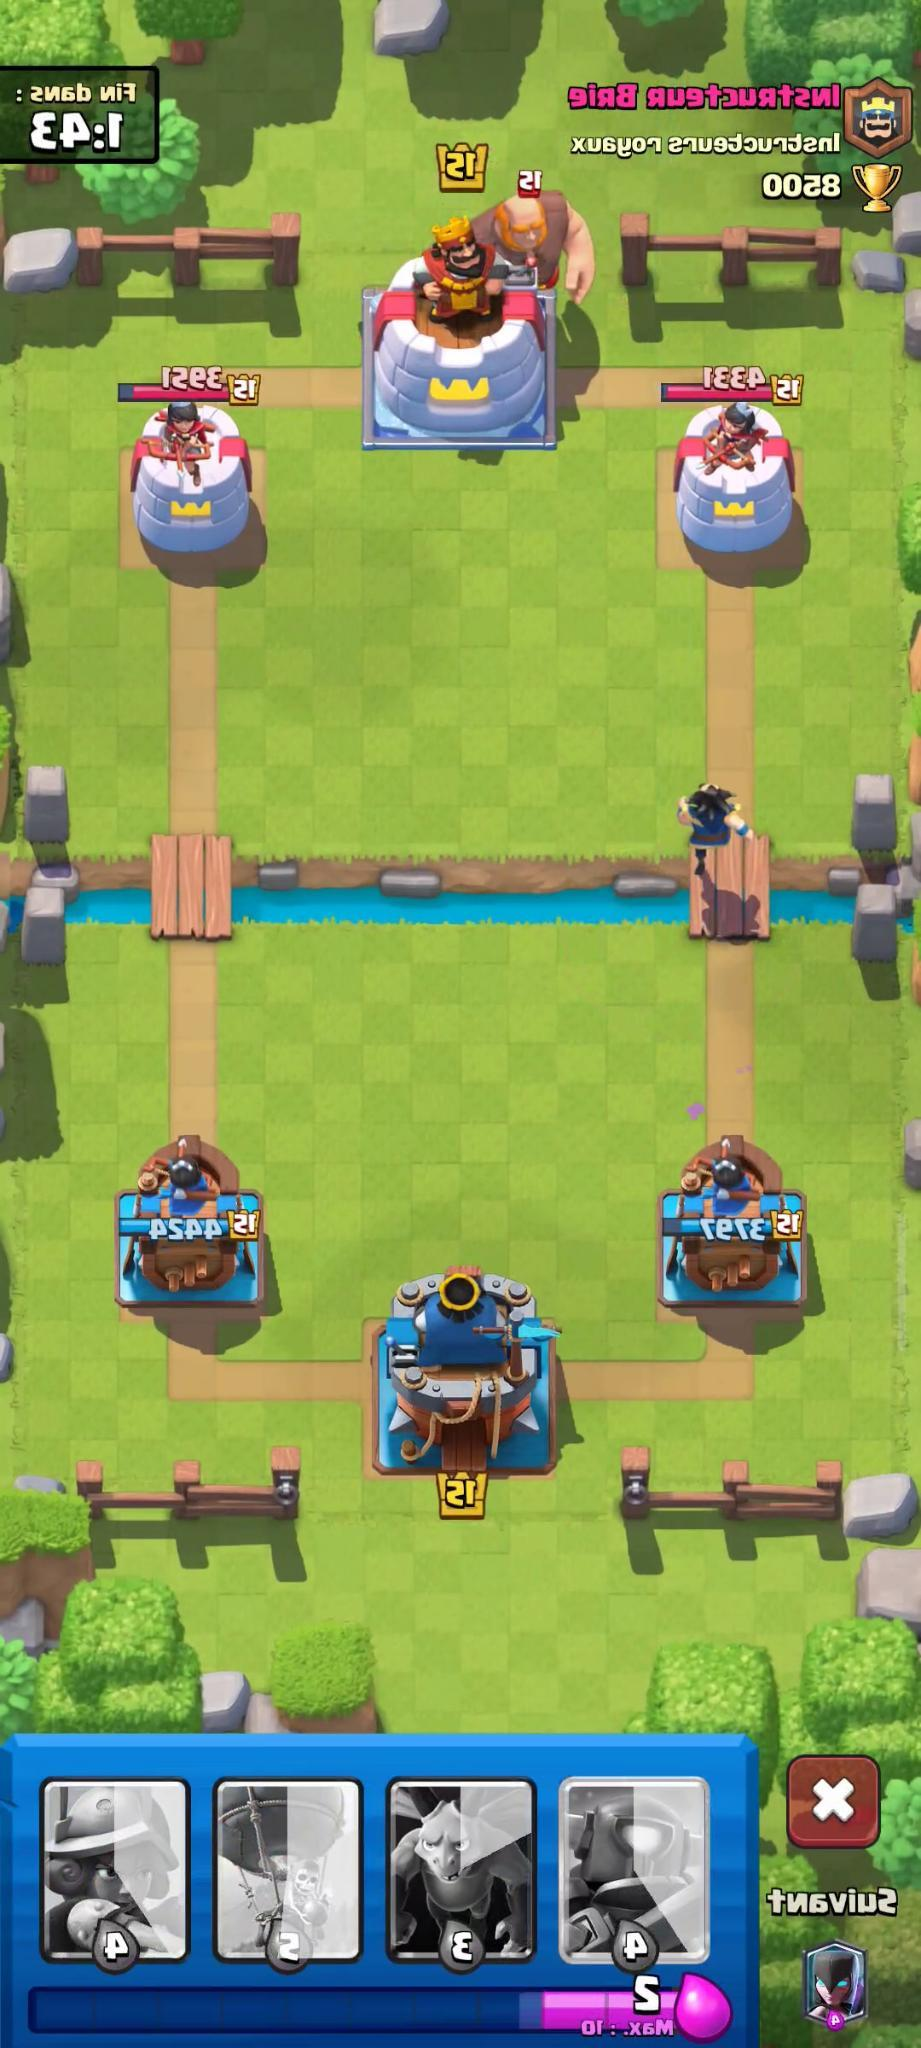enemy_giant: (484, 170, 599, 314)
player_electro_wizard: (666, 771, 770, 890)
